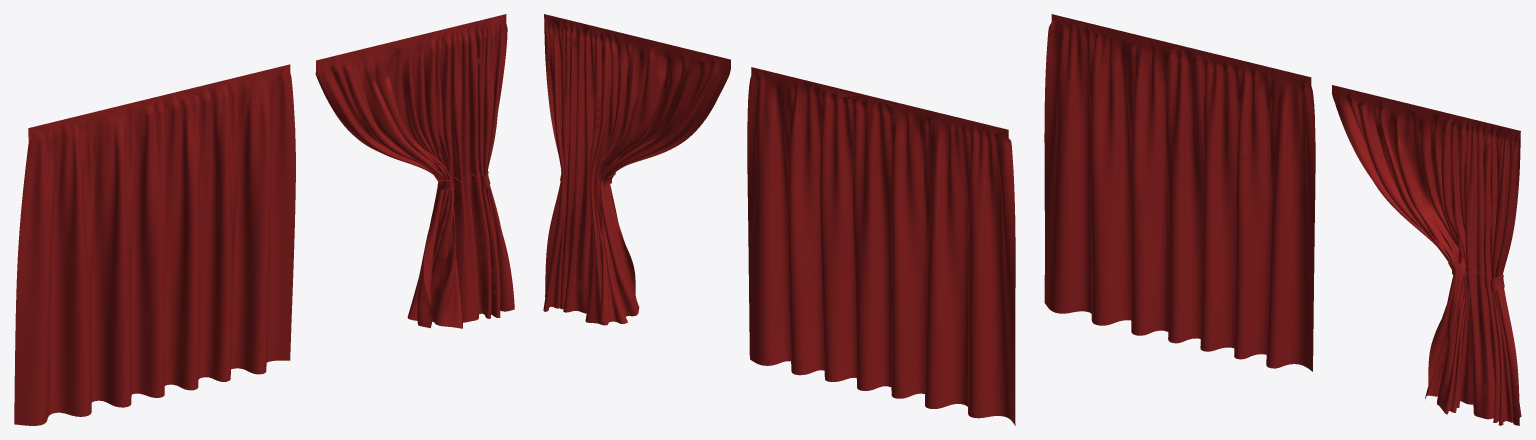
The model's file is curtain.glb.
3 renders of one model, left to right at view 1: azimuth 30°, elevation 25°; view 2: azimuth 150°, elevation 25°; view 3: azimuth 330°, elevation 25°, orthographic.
Size of the model in its own units: 4.38 by 2.54 by 0.4874.
